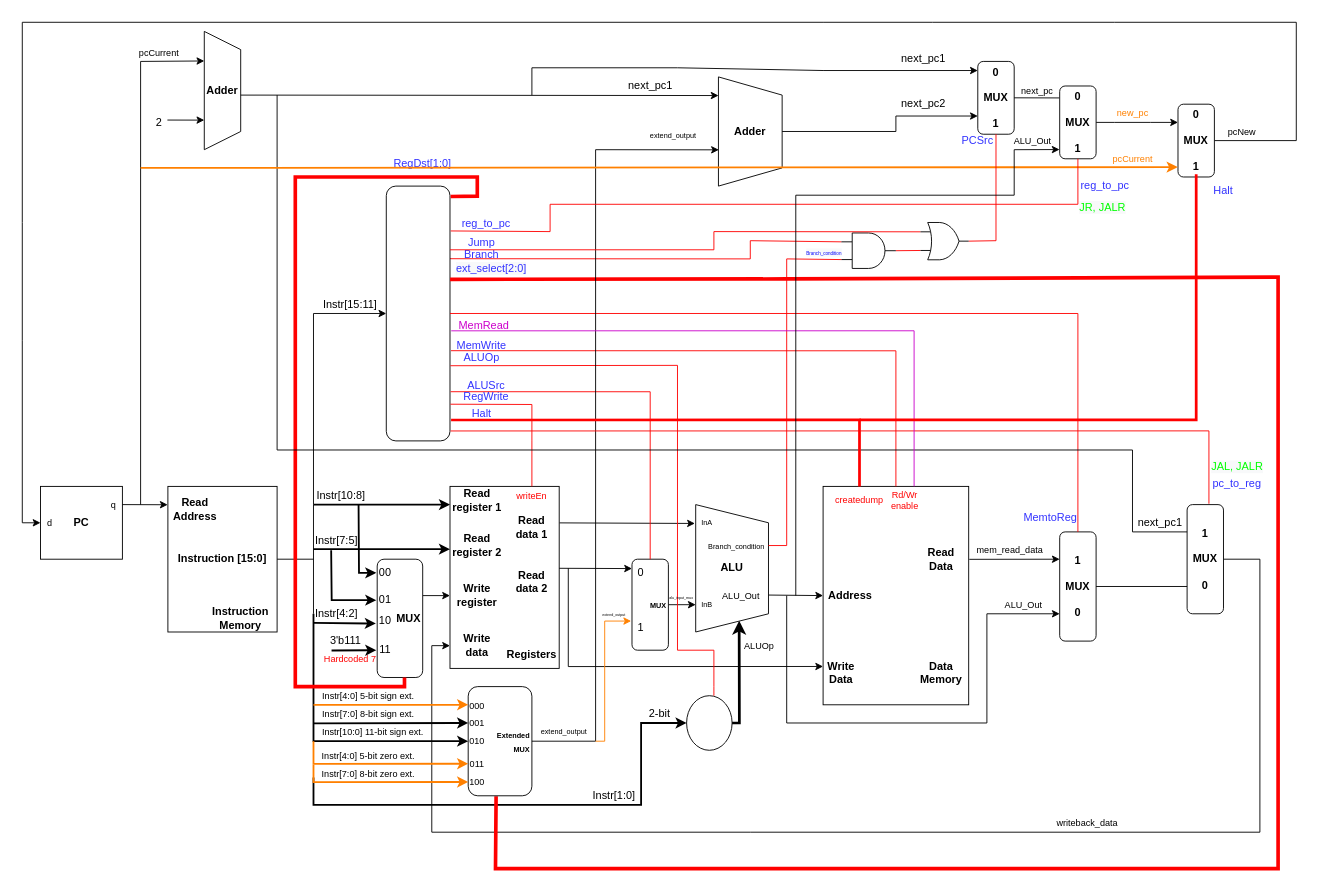
Image size: 1320x887. Some labels were removed from this diagram. The shapes that lost their labels are listed below. From the top down, each one's centre as x and y in pixels, then its label:
point 417,313: Control
point 709,722: ALU control
